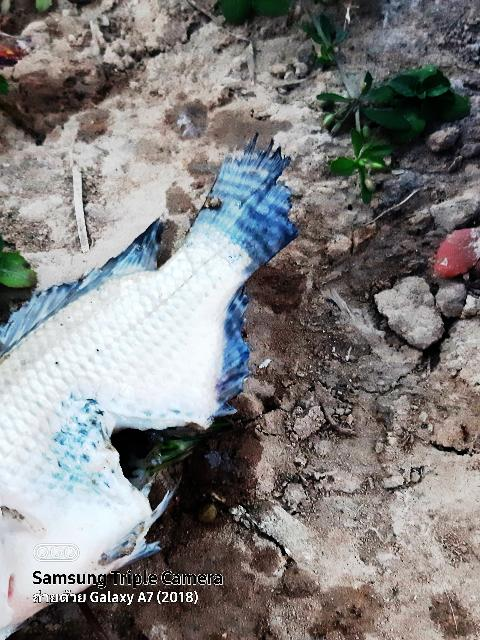Columnaris Disease: (0, 141, 297, 640)
